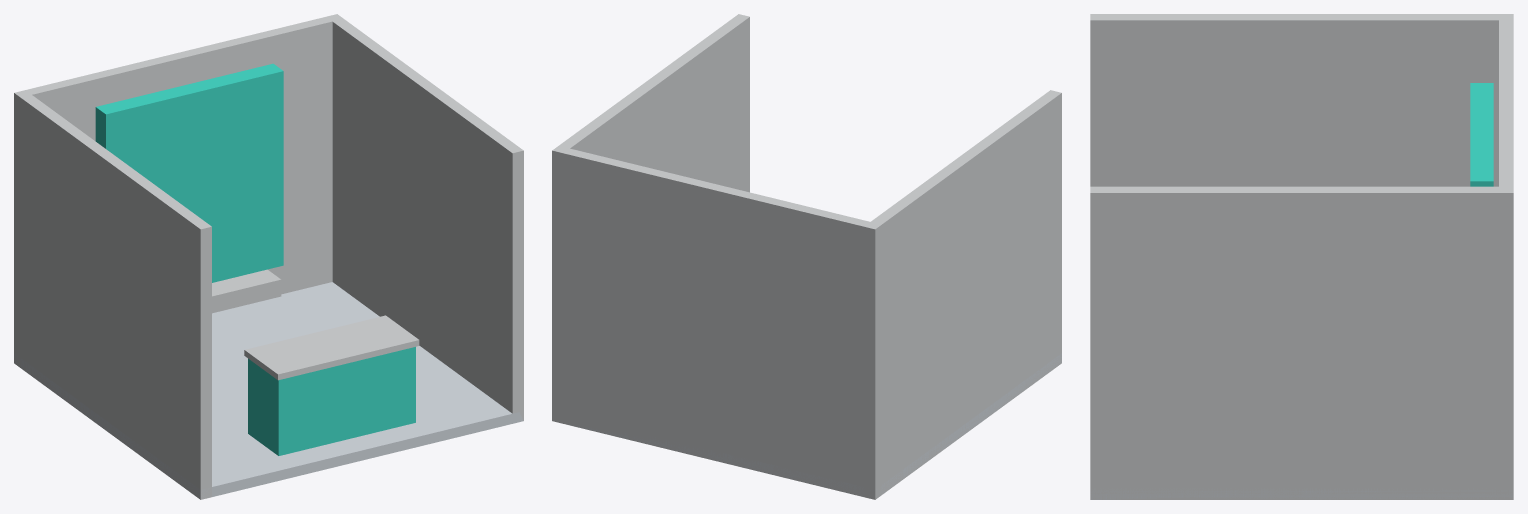
3 renders of one model, left to right at view 1: azimuth 30°, elevation 25°; view 2: azimuth 150°, elevation 25°; view 3: azimuth 270°, elevation 25°, orthographic. The views are drawn at different scales.
Visible parts, largest first — view 1: Exhibition Booth Concept; view 2: Exhibition Booth Concept; view 3: Exhibition Booth Concept.
Part boxes in pixels (<box>): Exhibition Booth Concept: <box>14,14,523,499</box>; Exhibition Booth Concept: <box>552,14,1061,499</box>; Exhibition Booth Concept: <box>1090,14,1513,499</box>.
Bounding box in the file's own units: 4 × 3.2 × 4.
